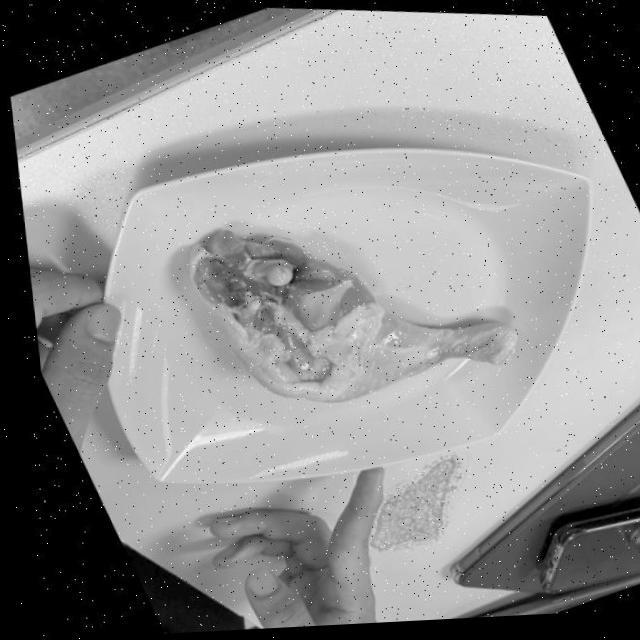quater: (180, 219, 512, 411)
